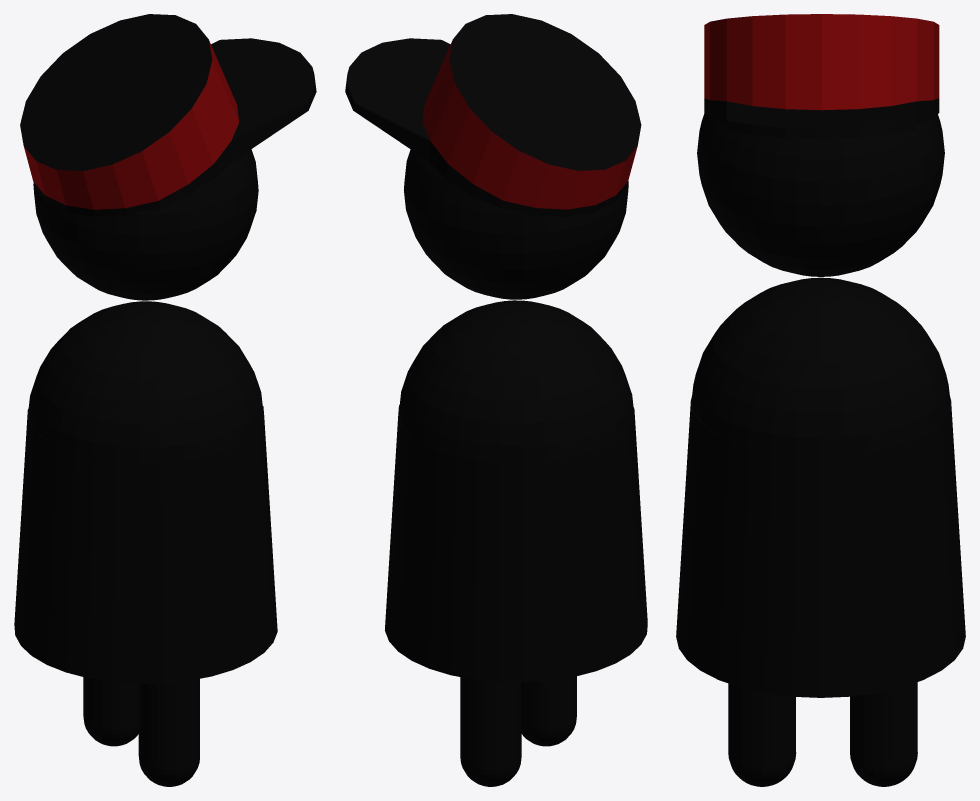
Rendered from NAZI.fbx.
The picture shows the model from 3 angles, left to right: view 1: azimuth 30°, elevation 25°; view 2: azimuth 150°, elevation 25°; view 3: azimuth 270°, elevation 25°; orthographic projection. The views are drawn at different scales.
Parts seen in each view (by area): view 1: Sphere; view 2: Sphere; view 3: Sphere.
Part boxes in pixels (left/top/right/bottom): Sphere: left=14, top=14, right=316, bottom=786; Sphere: left=345, top=14, right=647, bottom=786; Sphere: left=676, top=14, right=965, bottom=786.
Size of the model in its own units: 190 by 486 by 160.
